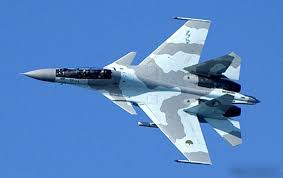maybay_muctieu: (18, 16, 257, 166)
